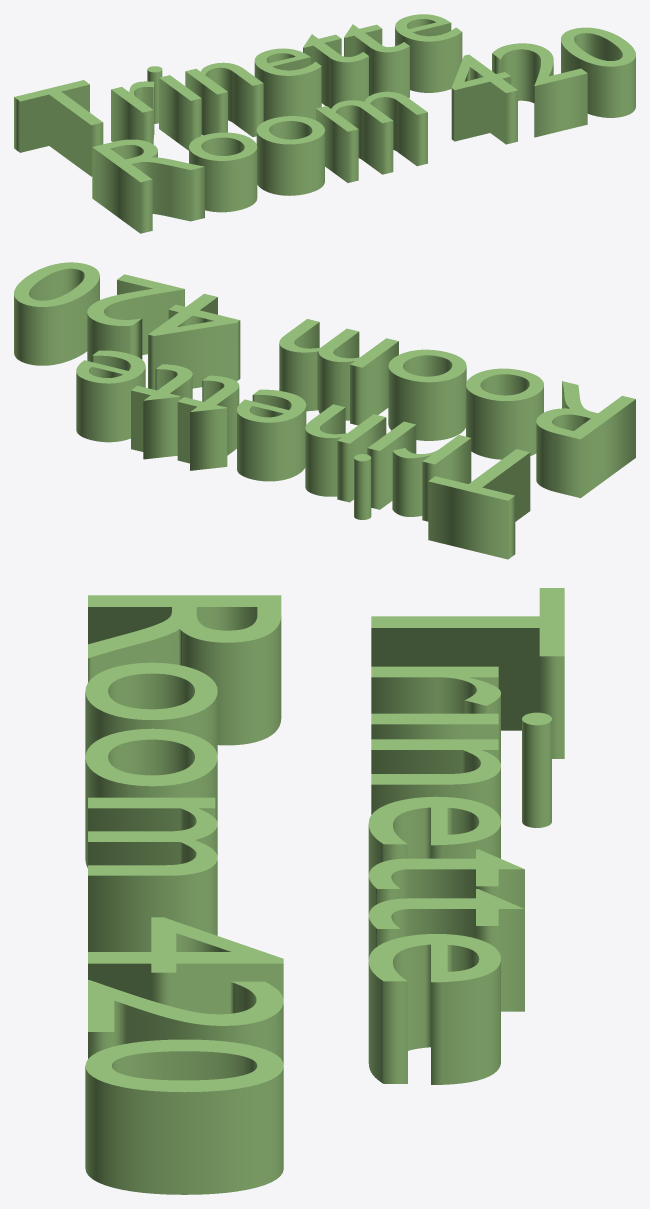
File: Trinette-420.gltf
3 renders of one model, top to bottom at view 1: azimuth 30°, elevation 25°; view 2: azimuth 150°, elevation 25°; view 3: azimuth 270°, elevation 25°, orthographic. The views are drawn at different scales.
Visible parts, largest first — view 1: Text; view 2: Text; view 3: Text.
Boxes of the visible parts, x1=… form: Text: x1=14, y1=14, x2=635, y2=233; Text: x1=14, y1=262, x2=635, y2=559; Text: x1=85, y1=588, x2=564, y2=1194.
Size of the model in its own units: 4.21 by 0.4 by 1.69.
